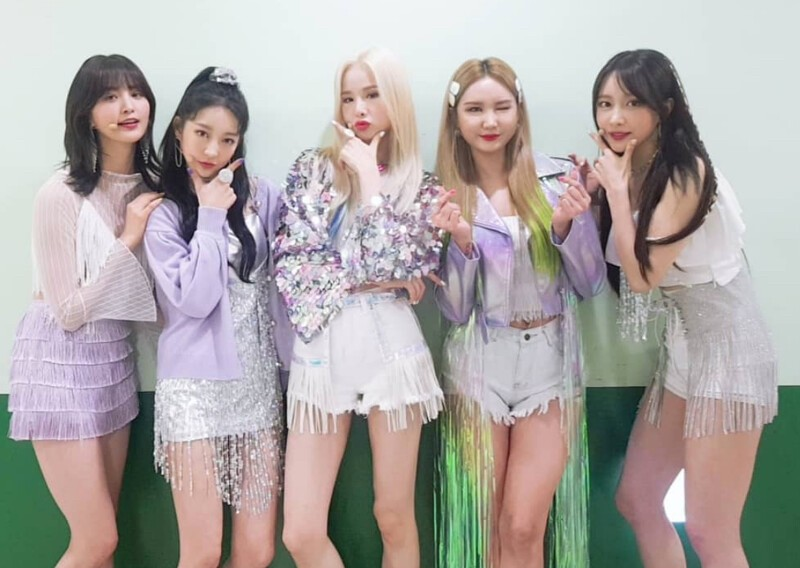people: (585, 48, 756, 568), (431, 58, 566, 568), (298, 46, 427, 568), (155, 62, 278, 568), (41, 53, 145, 568)
